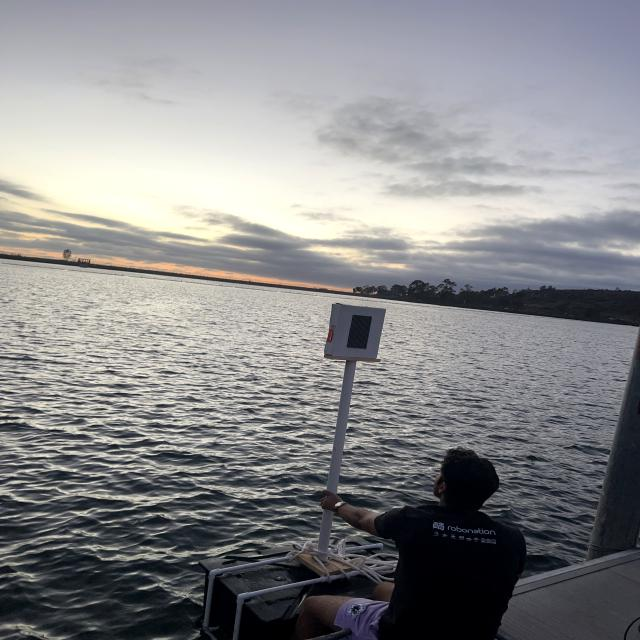led: (341, 305, 379, 367)
